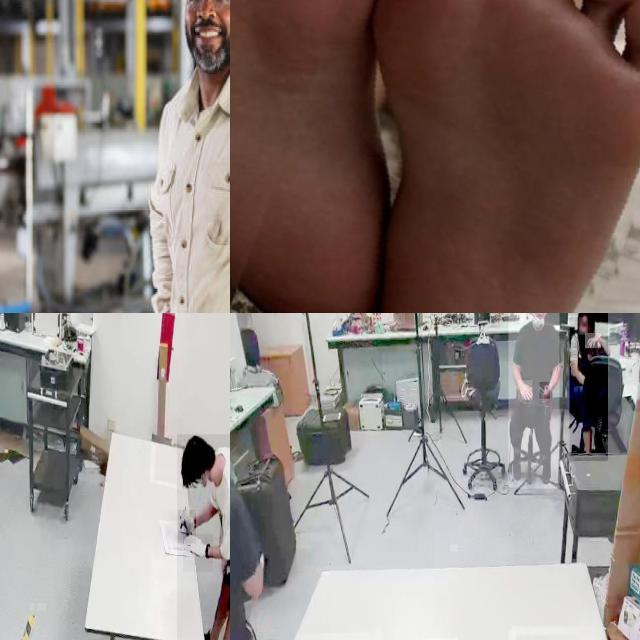Barefoots: (230, 0, 640, 313), (230, 0, 497, 313)
face_nomask: (185, 0, 230, 74), (578, 317, 588, 336)
glasses: (185, 0, 230, 12)
hand_glove: (183, 534, 213, 572), (178, 509, 196, 544)
hand_noglove: (518, 380, 533, 401), (585, 333, 601, 349), (540, 382, 550, 400)
head_nohelmet: (180, 434, 194, 488)
person: (230, 313, 292, 640), (177, 434, 230, 640), (508, 313, 559, 489), (569, 313, 608, 461)
shoes: (508, 448, 526, 486), (536, 446, 554, 483)
